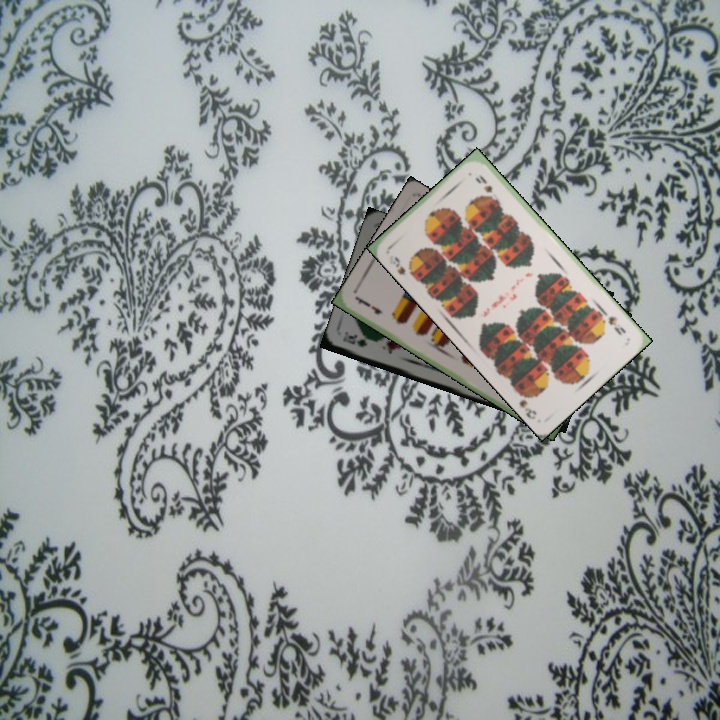E7: (352, 293, 385, 317)
GK: (339, 330, 370, 350)
S9: (597, 308, 629, 337), (390, 252, 418, 280)
